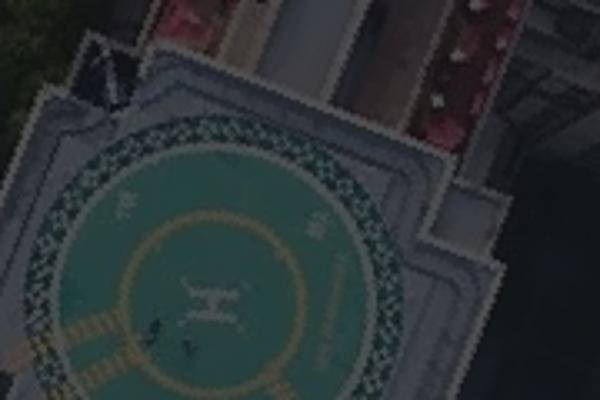Apron: (113, 204, 313, 398)
